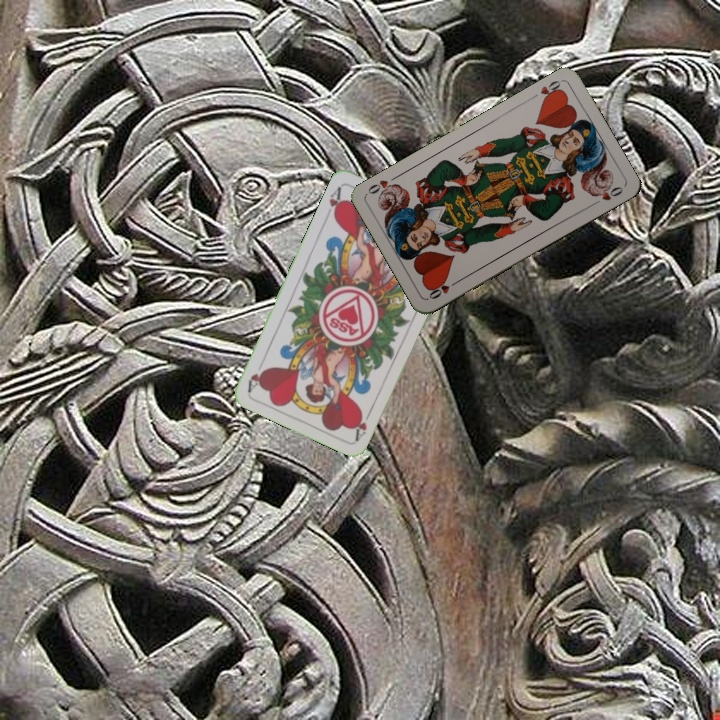HA: (351, 404, 375, 443), (325, 182, 345, 221)
HO: (425, 276, 462, 302), (536, 76, 565, 104)
